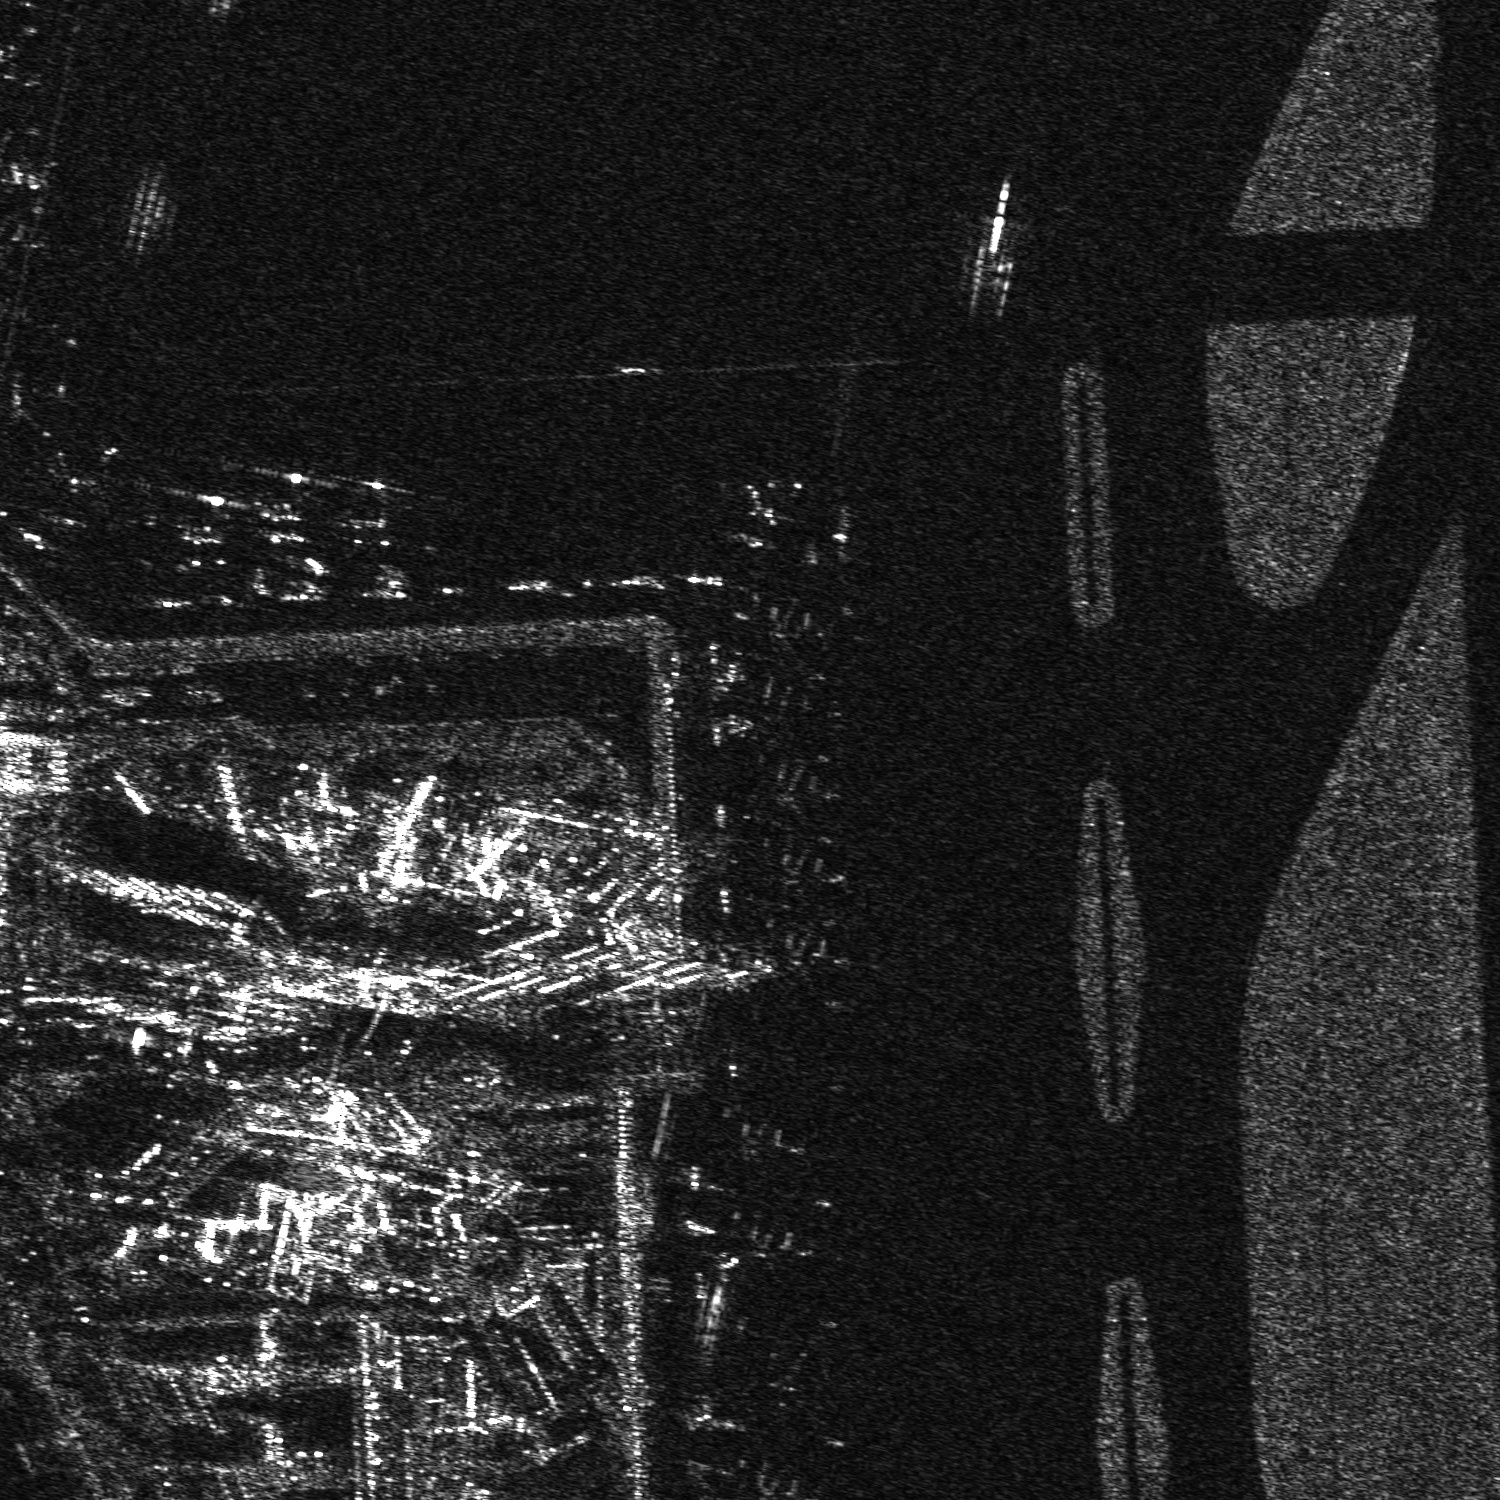A220: (749, 762, 849, 835), (786, 935, 883, 1010), (762, 591, 843, 679), (238, 464, 313, 554), (775, 848, 859, 926), (721, 1223, 819, 1288)
A320/321: (720, 467, 810, 533)
Boeing737: (150, 484, 232, 556)
other: (330, 475, 401, 552)
